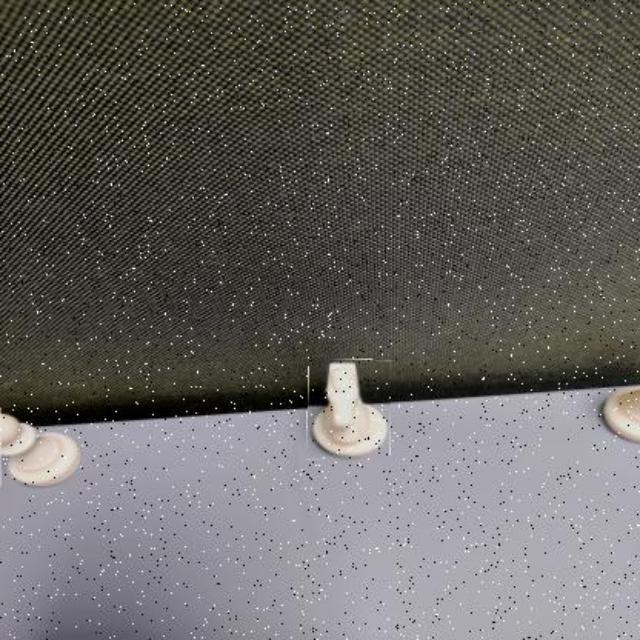white-knight: (308, 358, 392, 461)
white-pawn: (0, 408, 81, 488)
